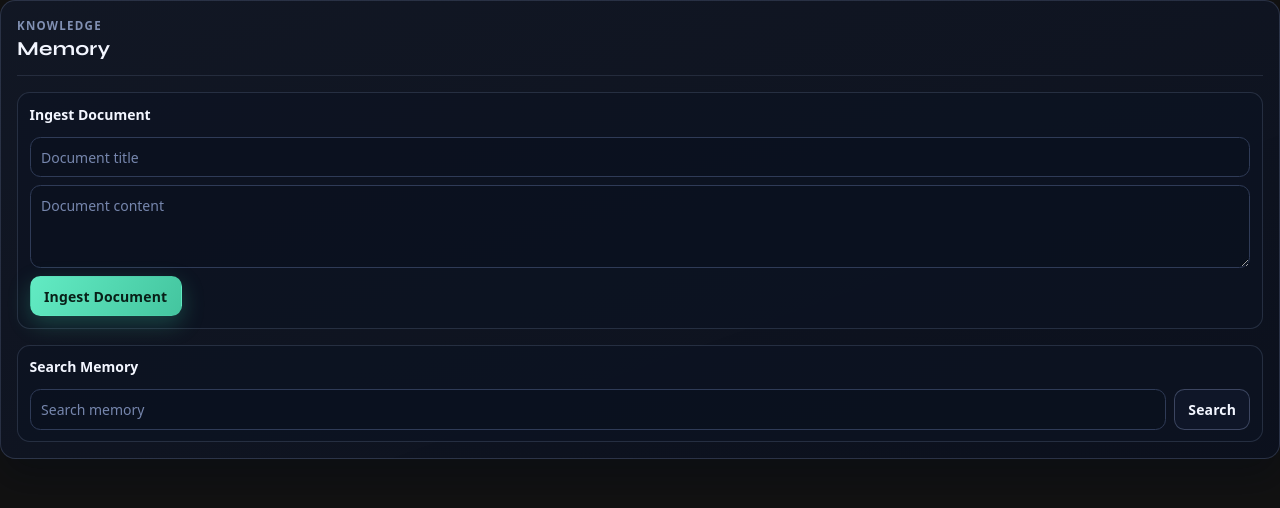
Test: MemoryPanel › shows empty results state after search
In the field with placeholder "Search memory": (598, 410) [30,389,1166,430], type "nothing"
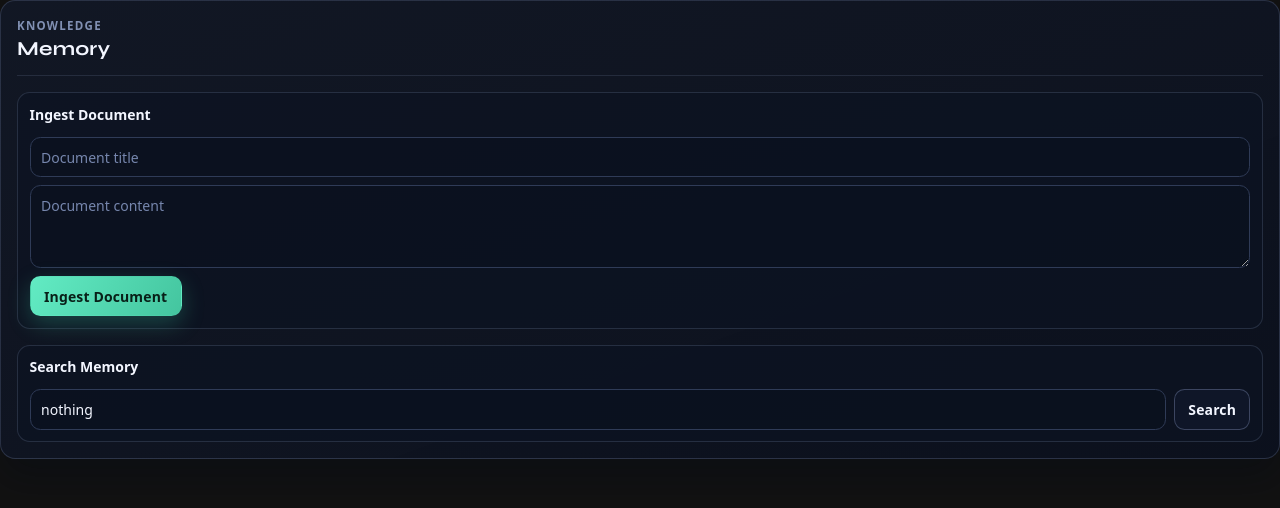
Click the button "Search": click(1212, 410) [1174,389,1250,430]
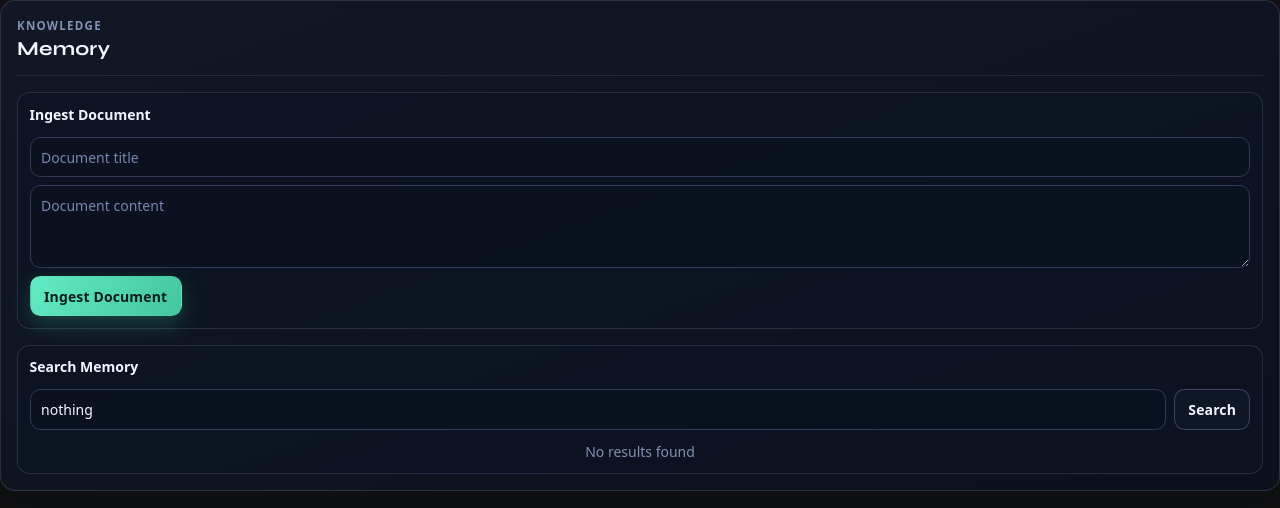
Expected: the text "No results found" is shown, [585,442,695,461]
